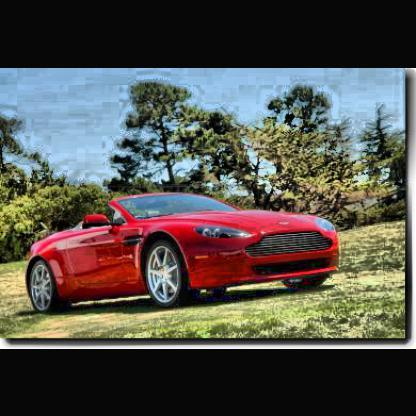Aston Martin V8 Vantage Convertible 2012: (28, 194, 341, 315)
